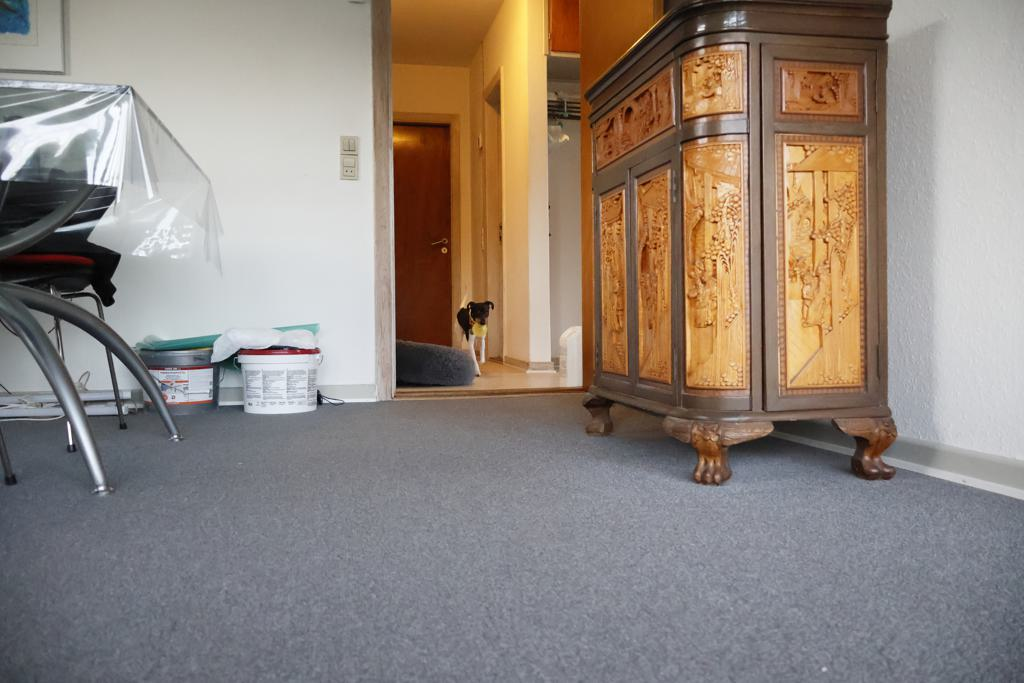Dog: (450, 278, 501, 384)
